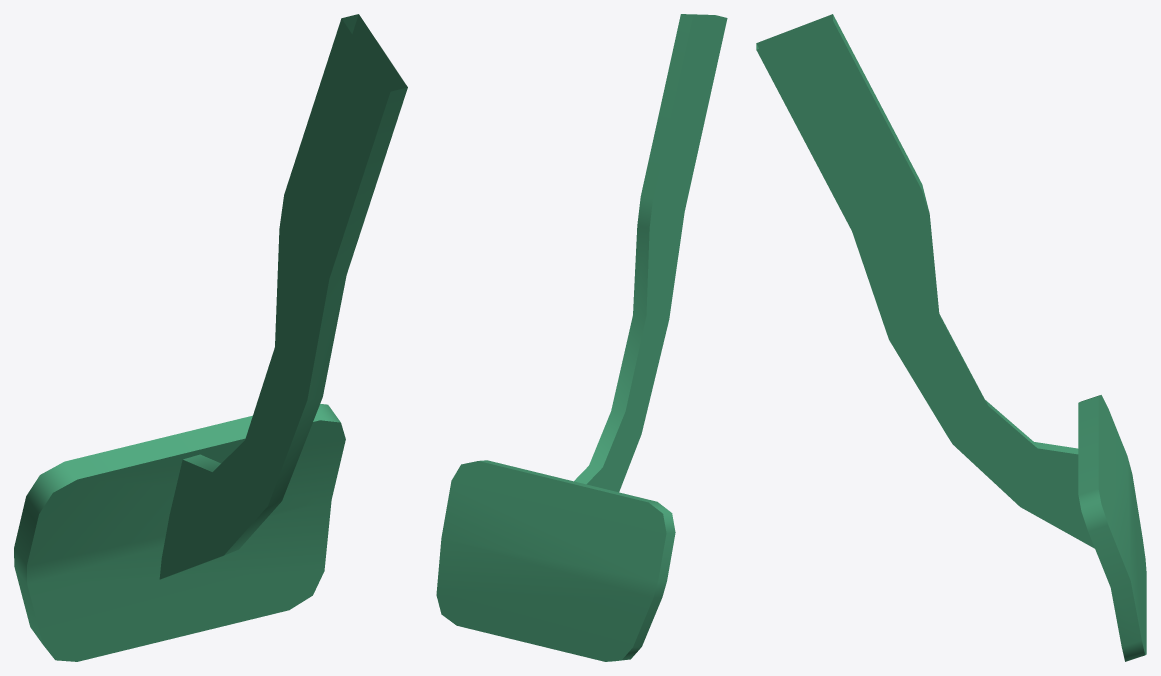
File: brake_pedal.fbx
3 views of the same model, side by side, from view 1: azimuth 30°, elevation 25°; view 2: azimuth 150°, elevation 25°; view 3: azimuth 270°, elevation 25° (orthographic). The views are drawn at different scales.
Visible parts, largest first — view 1: vivace_pedal_brake_A; view 2: vivace_pedal_brake_A; view 3: vivace_pedal_brake_A.
Part boxes in pixels (x1,y1,x2,y2): vivace_pedal_brake_A: [14, 14, 407, 661]; vivace_pedal_brake_A: [436, 14, 727, 661]; vivace_pedal_brake_A: [756, 14, 1146, 661].
Bounding box in the file's own units: 8.81 × 20.92 × 12.44.
